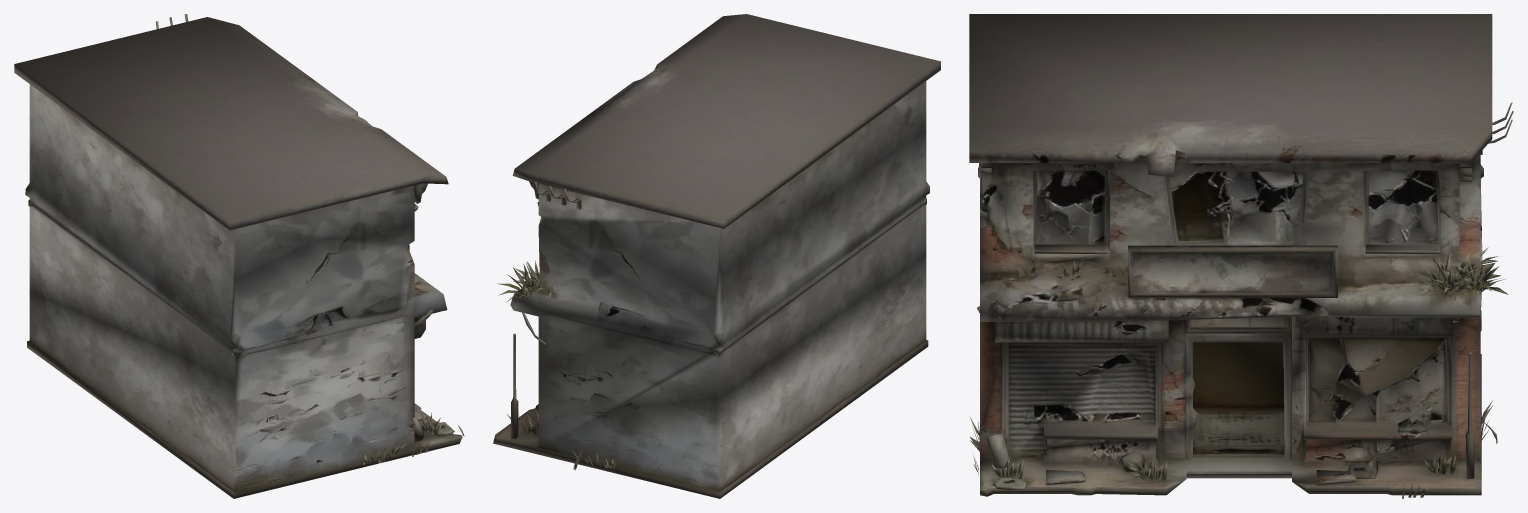
File: abandoned_shop_front.glb
The picture shows the model from 3 angles, left to right: view 1: azimuth 30°, elevation 25°; view 2: azimuth 150°, elevation 25°; view 3: azimuth 270°, elevation 25°; orthographic projection. The views are drawn at different scales.
Parts seen in each view (by area): view 1: tripo_node_35216220-64d3-429c-a0d6-f40864be2997; view 2: tripo_node_35216220-64d3-429c-a0d6-f40864be2997; view 3: tripo_node_35216220-64d3-429c-a0d6-f40864be2997.
Part boxes in pixels (x1,y1,x2,y2): tripo_node_35216220-64d3-429c-a0d6-f40864be2997: (14, 14, 464, 498); tripo_node_35216220-64d3-429c-a0d6-f40864be2997: (493, 14, 940, 498); tripo_node_35216220-64d3-429c-a0d6-f40864be2997: (969, 14, 1513, 498).
Size of the model in its own units: 0.623 by 0.6934 by 0.998.
Materials: 1 (1 with a texture image).
